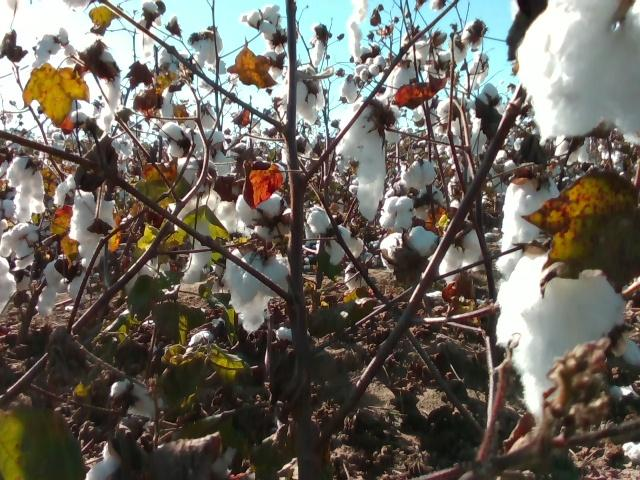cotton_ready: (496, 255, 630, 418), (519, 0, 640, 143), (337, 96, 399, 224), (86, 384, 159, 480), (495, 176, 559, 276), (53, 177, 116, 269), (180, 192, 237, 284), (226, 249, 288, 331), (306, 205, 364, 269), (72, 41, 124, 111), (237, 187, 295, 239), (438, 225, 487, 284), (381, 226, 441, 273), (467, 82, 505, 155), (276, 64, 320, 124), (7, 157, 47, 222), (165, 124, 225, 154), (1, 224, 40, 270), (32, 25, 67, 70), (398, 158, 439, 192), (386, 58, 419, 99), (244, 4, 282, 38), (188, 29, 223, 65), (0, 259, 19, 313)
